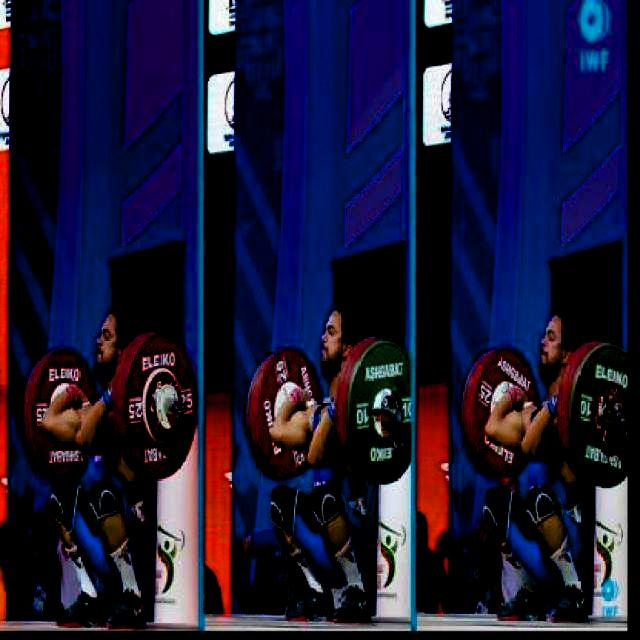barbell: (110, 322, 201, 482)
